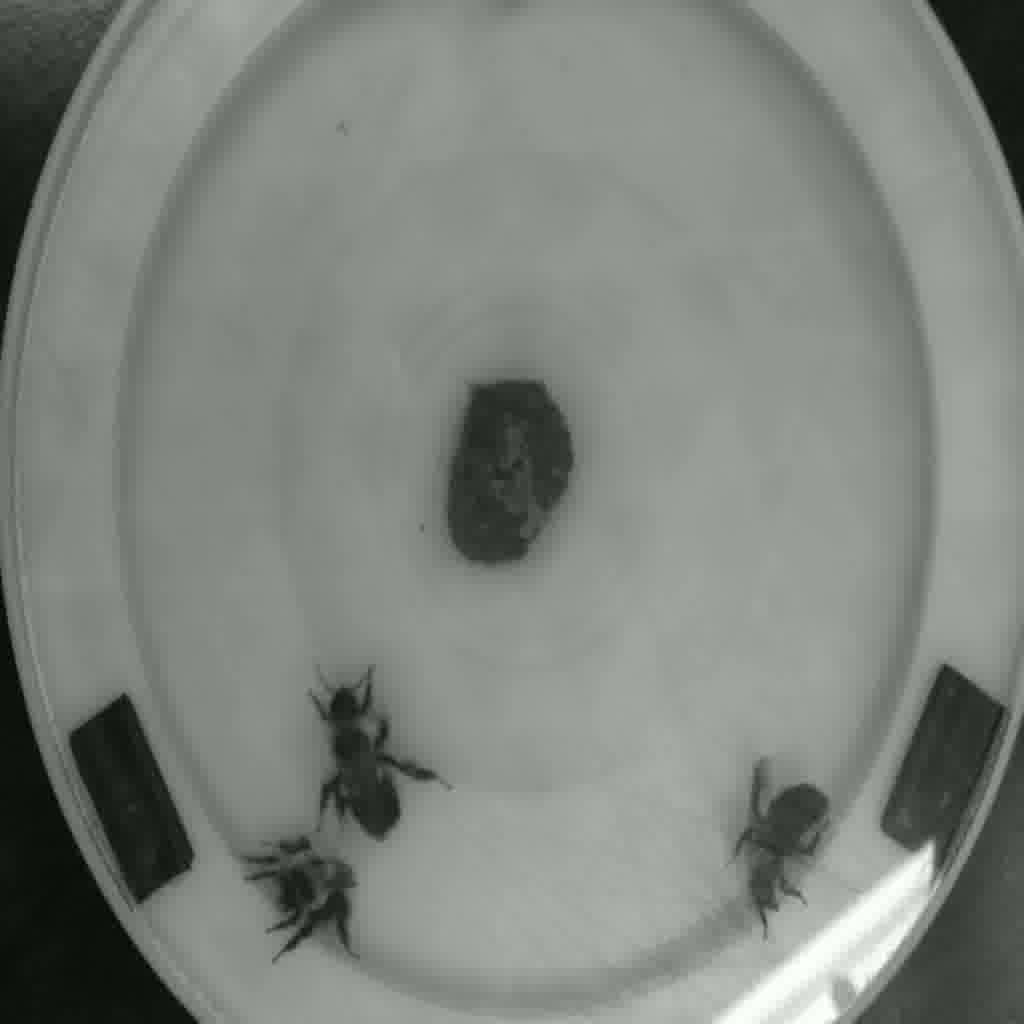bee: (299, 686, 441, 841), (228, 837, 382, 962), (725, 757, 834, 929)
